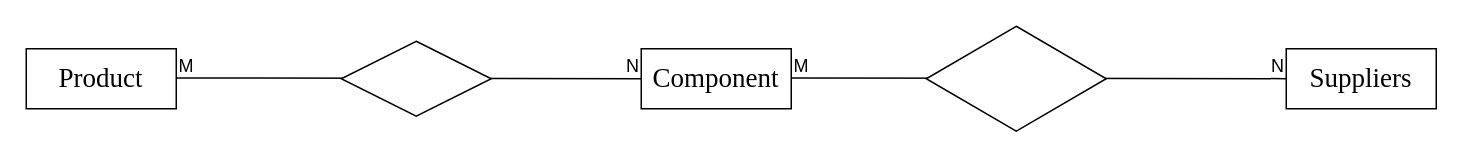
Some shapes in this 1463 by 158 pixel diagram are drawn without their labels. The centre of each missing label's shape, as x and y in pixels:
"build" goes at [415,78].
"supplies" goes at [1015,78].
